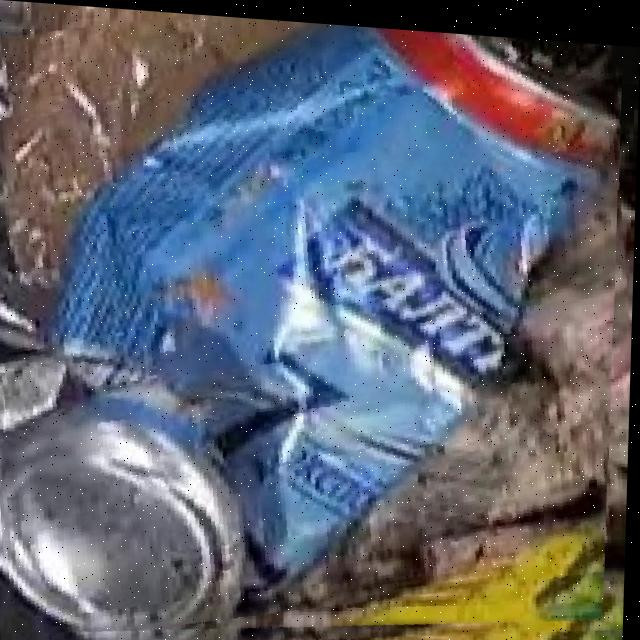can: (5, 20, 622, 632)
